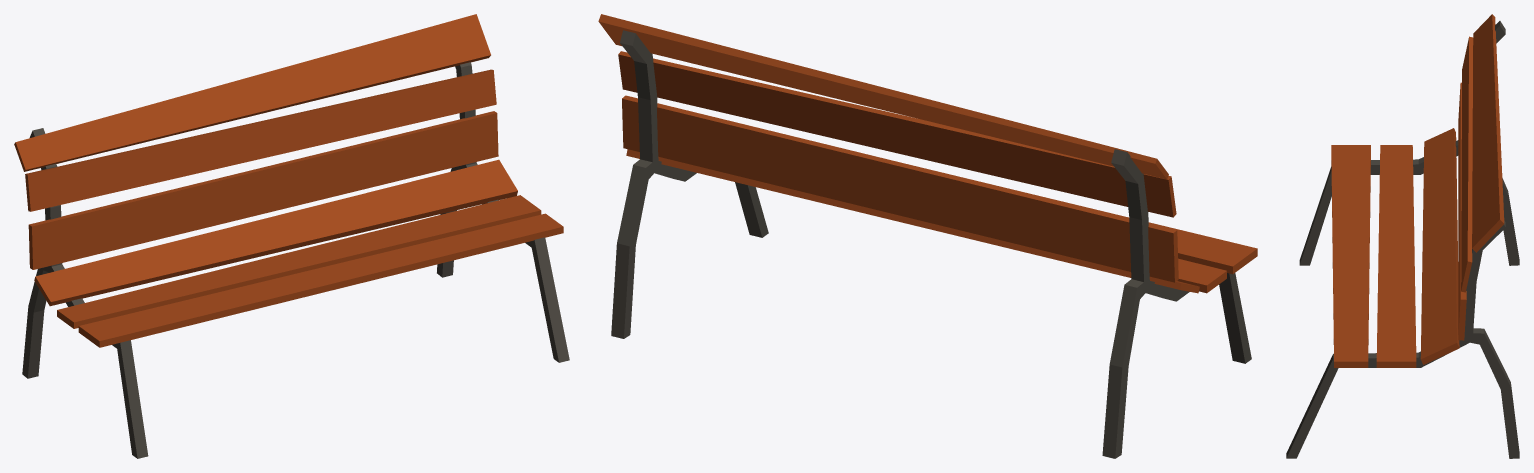
Rendered from benchv2.2.fbx.
3 views of the same model, side by side, from view 1: azimuth 30°, elevation 25°; view 2: azimuth 150°, elevation 25°; view 3: azimuth 270°, elevation 25° (orthographic). The views are drawn at different scales.
Visible parts, largest first — view 1: КриваяБезье.001; view 2: КриваяБезье.001; view 3: КриваяБезье.001.
Part boxes in pixels (box(x1,y1,x2,y2)): КриваяБезье.001: box(14, 14, 569, 458); КриваяБезье.001: box(598, 14, 1257, 458); КриваяБезье.001: box(1286, 14, 1519, 458).
Bounding box in the file's own units: 184 × 98.09 × 83.63.
